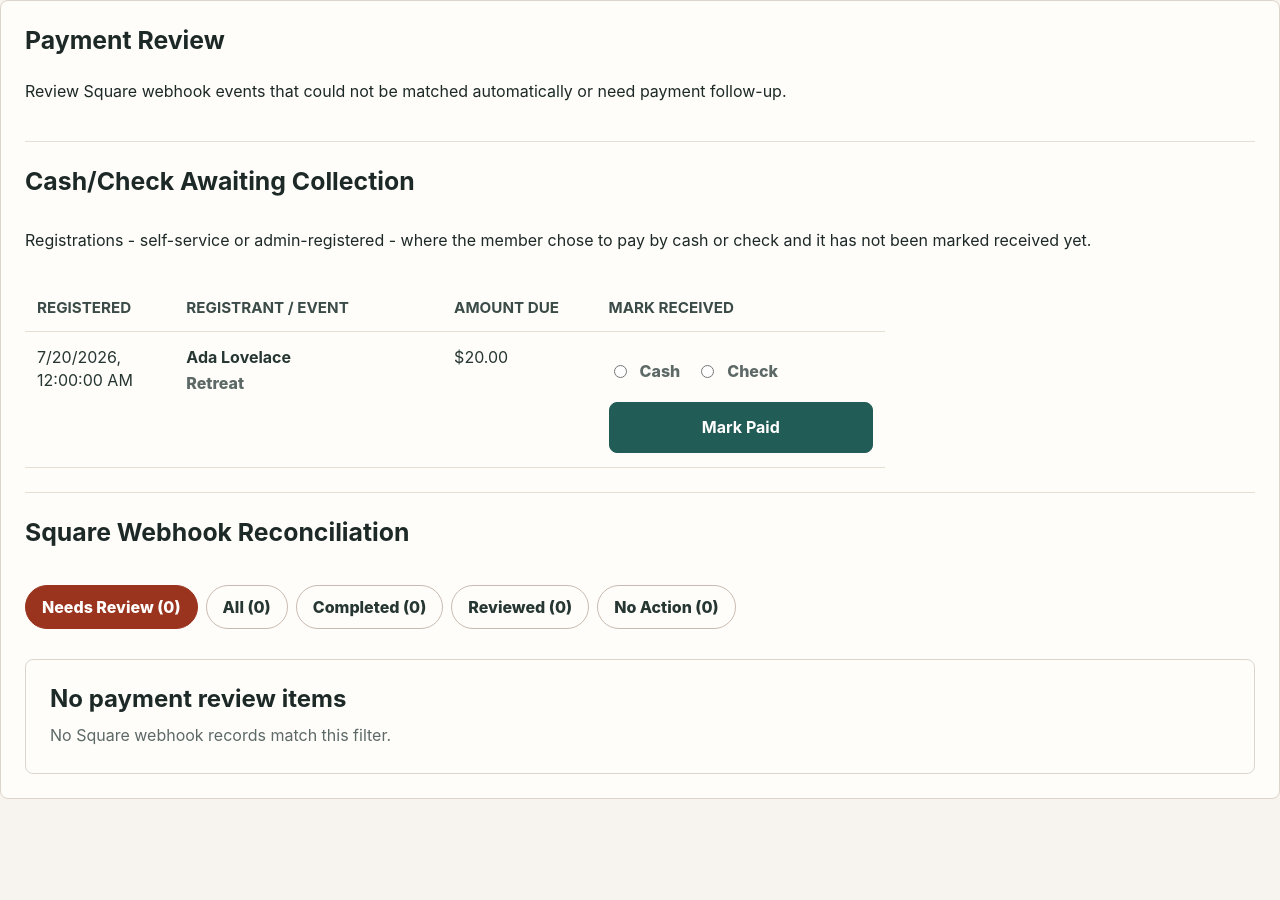
Test case: cash/check awaiting collection › marks a registration paid with the full amount due and the chosen method once confirmed
Click the radio button labelled "Check" at (708, 372), box [701, 365, 714, 378]
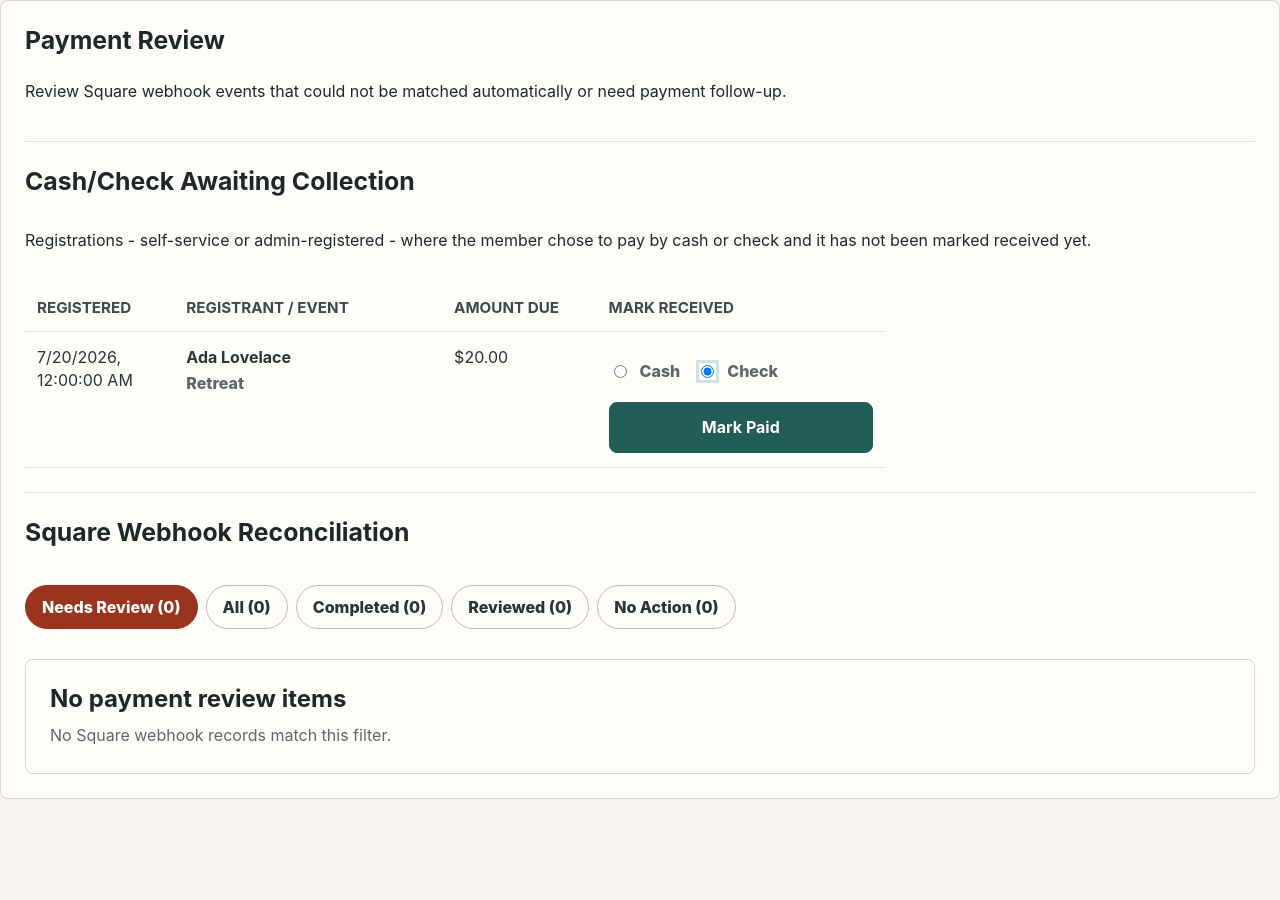
Click the button "Mark Paid" at (741, 428), box [609, 402, 873, 453]
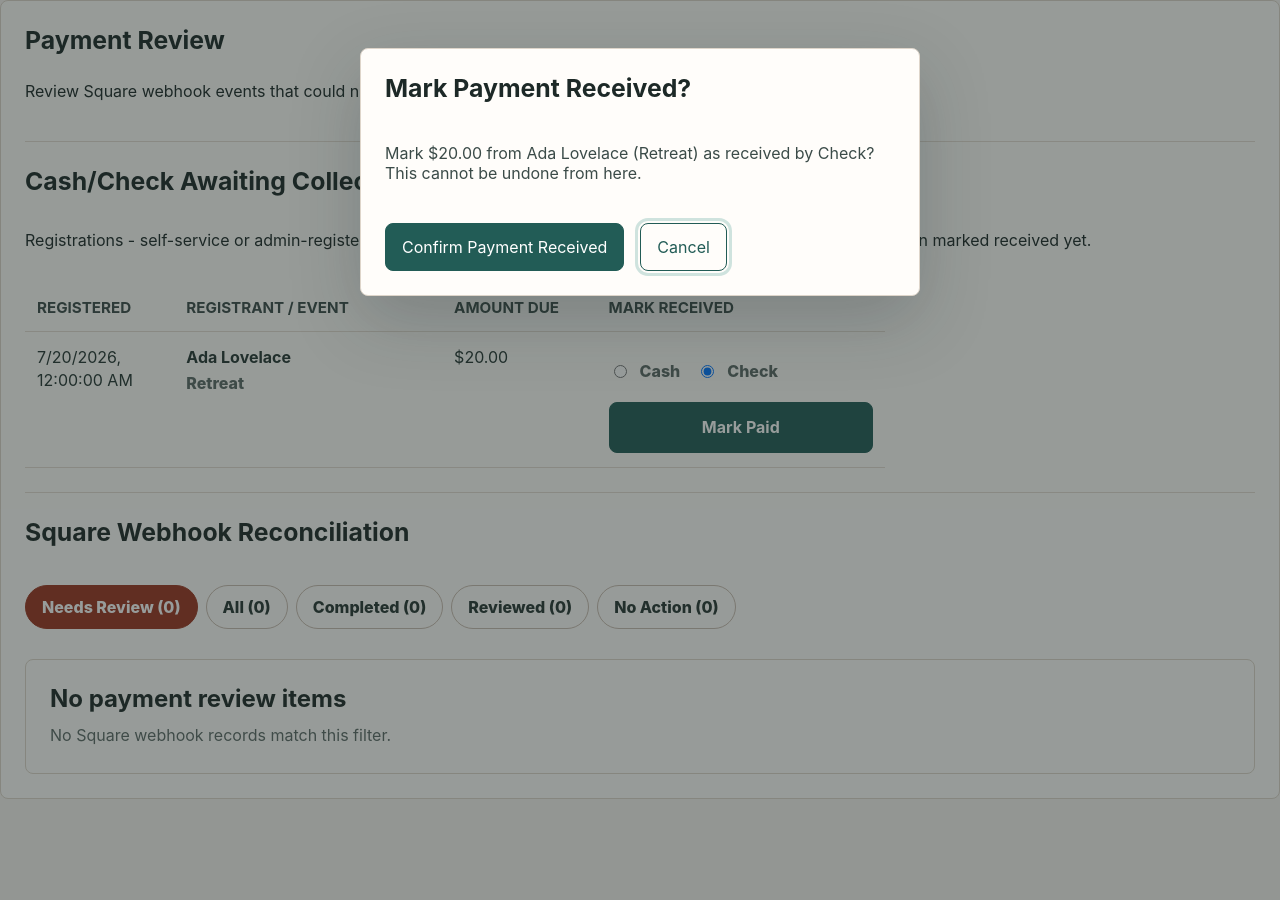
Click the button "Confirm Payment Received" at (505, 247), box [385, 223, 624, 271]
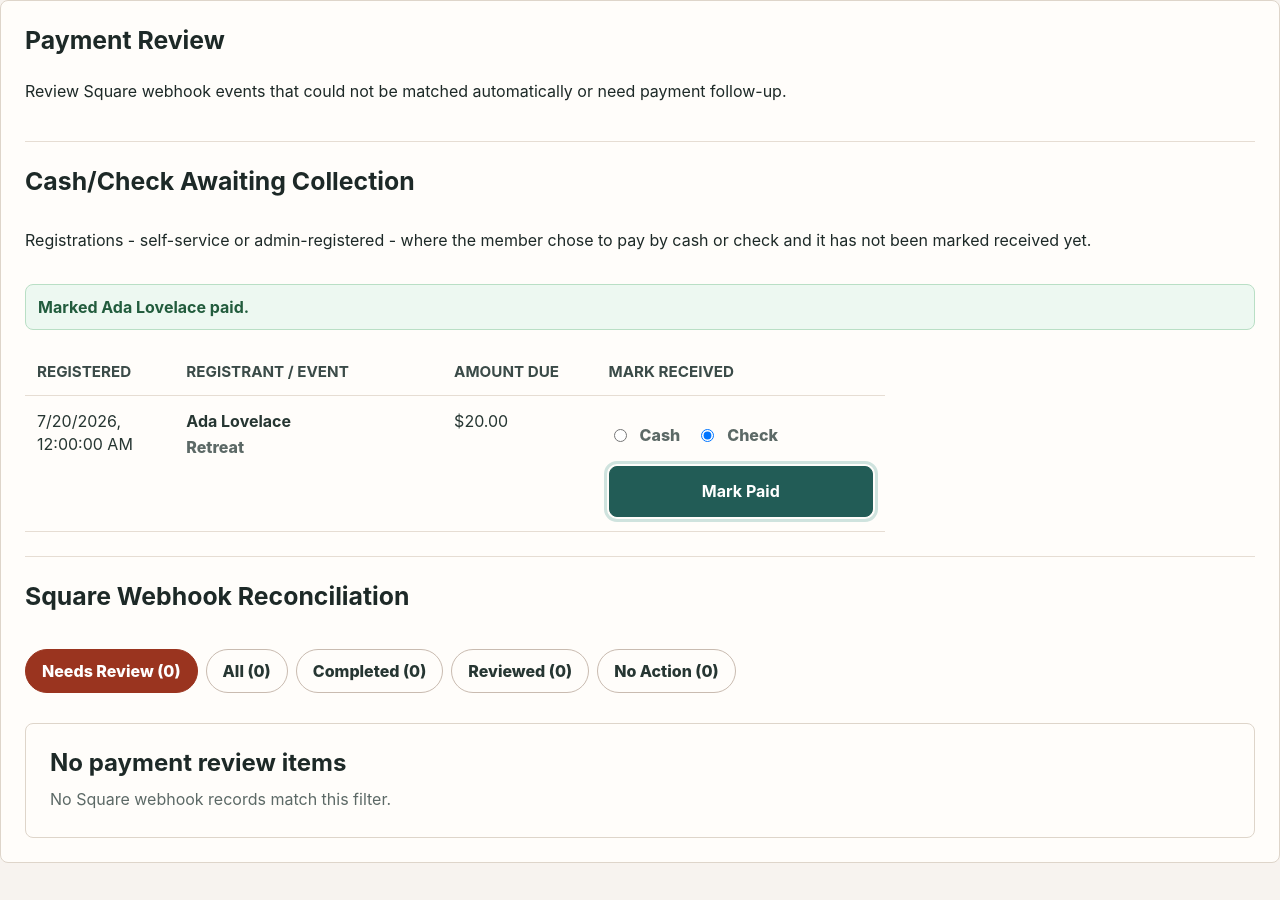
Result: the text "Marked Ada Lovelace paid." is shown at [25, 284, 1255, 330]
Result: the heading "Mark Payment Received?" is gone
